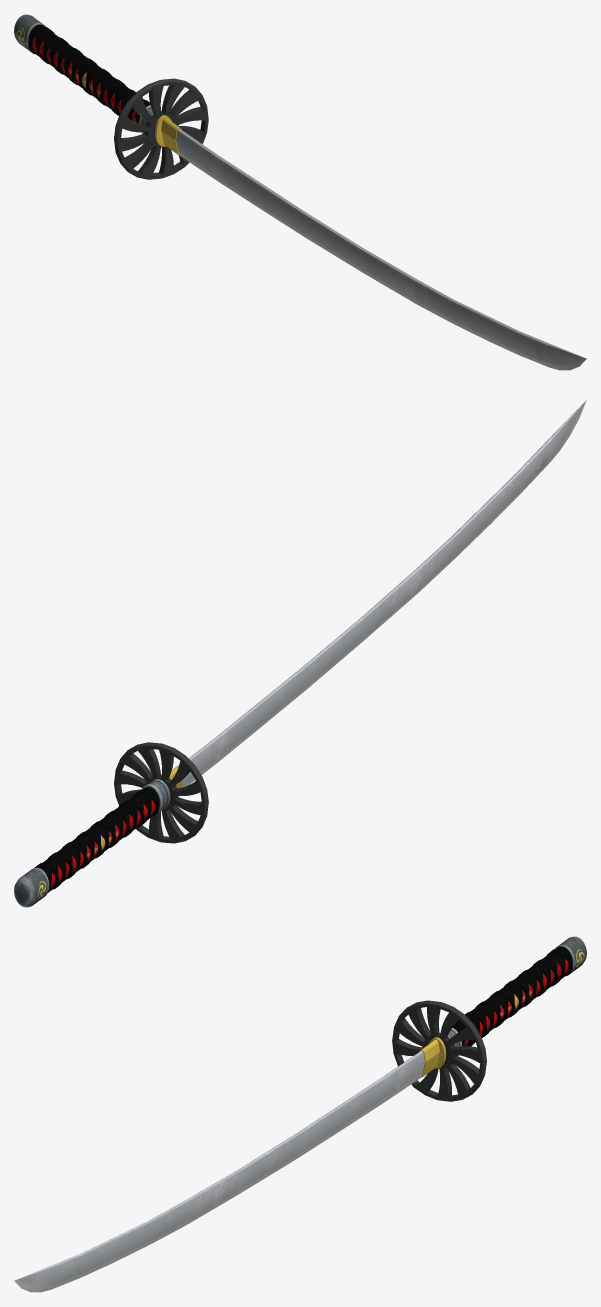
The model's file is katana_low_poly.glb.
3 renders of one model, top to bottom at view 1: azimuth 30°, elevation 25°; view 2: azimuth 150°, elevation 25°; view 3: azimuth 330°, elevation 25°, orthographic.
Visible parts, largest first — view 1: Blade_low, Tsuba1_low, Same_low, Tsuba_low, Kasira_low; view 2: Blade_low, Tsuba1_low, Same_low, Kasira_low, Tsuba_low; view 3: Blade_low, Tsuba1_low, Same_low, Tsuba_low, Kasira_low, Hamon_low.
Part boxes in pixels (x1,y1,x2,y2): Blade_low: [176, 128, 586, 370]; Tsuba1_low: [114, 78, 208, 179]; Same_low: [35, 28, 148, 120]; Tsuba_low: [32, 37, 153, 132]; Kasira_low: [14, 14, 45, 53]; Blade_low: [181, 400, 586, 787]; Tsuba1_low: [114, 742, 208, 843]; Same_low: [39, 791, 151, 890]; Kasira_low: [14, 867, 49, 907]; Tsuba_low: [51, 781, 167, 887]; Blade_low: [14, 1050, 424, 1292]; Tsuba1_low: [392, 1000, 486, 1101]; Same_low: [456, 950, 565, 1046]; Tsuba_low: [448, 959, 568, 1055]; Kasira_low: [555, 936, 586, 975]; Hamon_low: [419, 1039, 439, 1077].
Size of the model in its own units: 6.93 by 9.21 by 71.84.
Materials: 1 (1 with a texture image).
